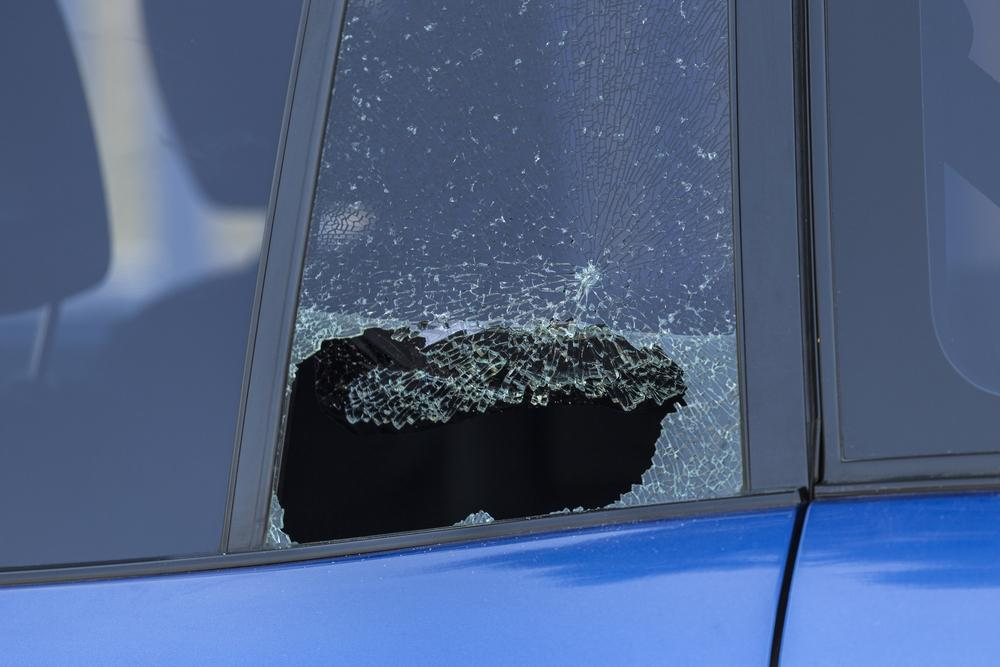glass shatter: (262, 0, 746, 552)
